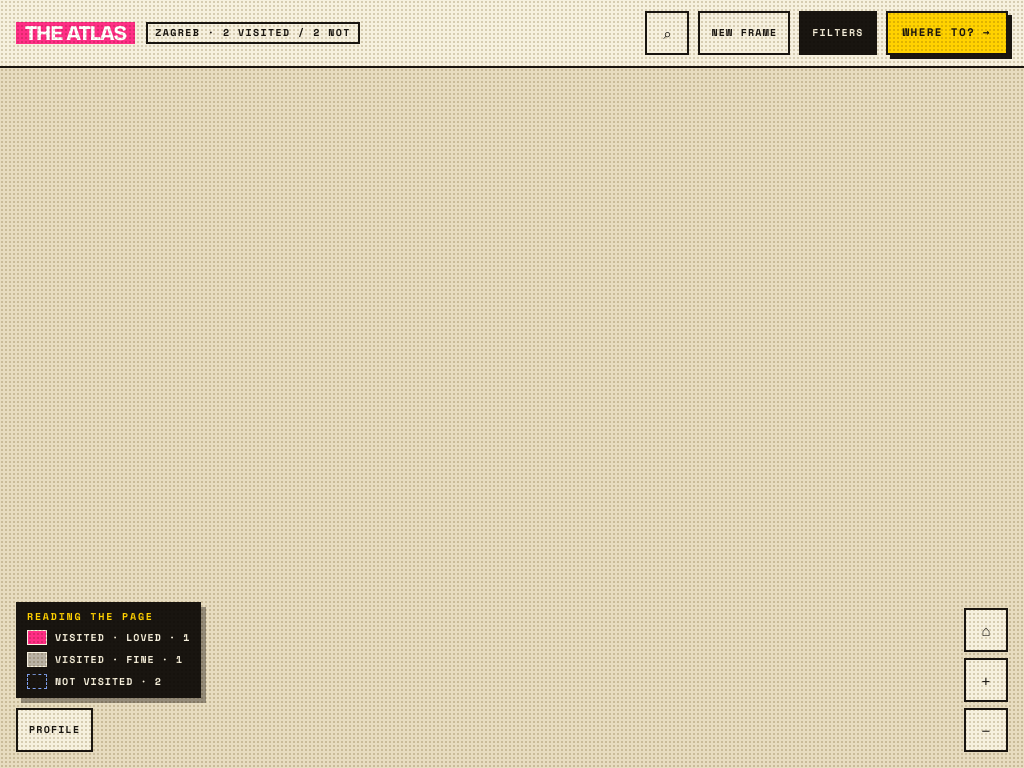
AtlasScreen — search (issue 131) › shows a no-matches row for a query that matches nothing
This screenshot has width=1024, height=768.
Click the button named "Search frames".
click(667, 33)  # box [645,11,689,55]
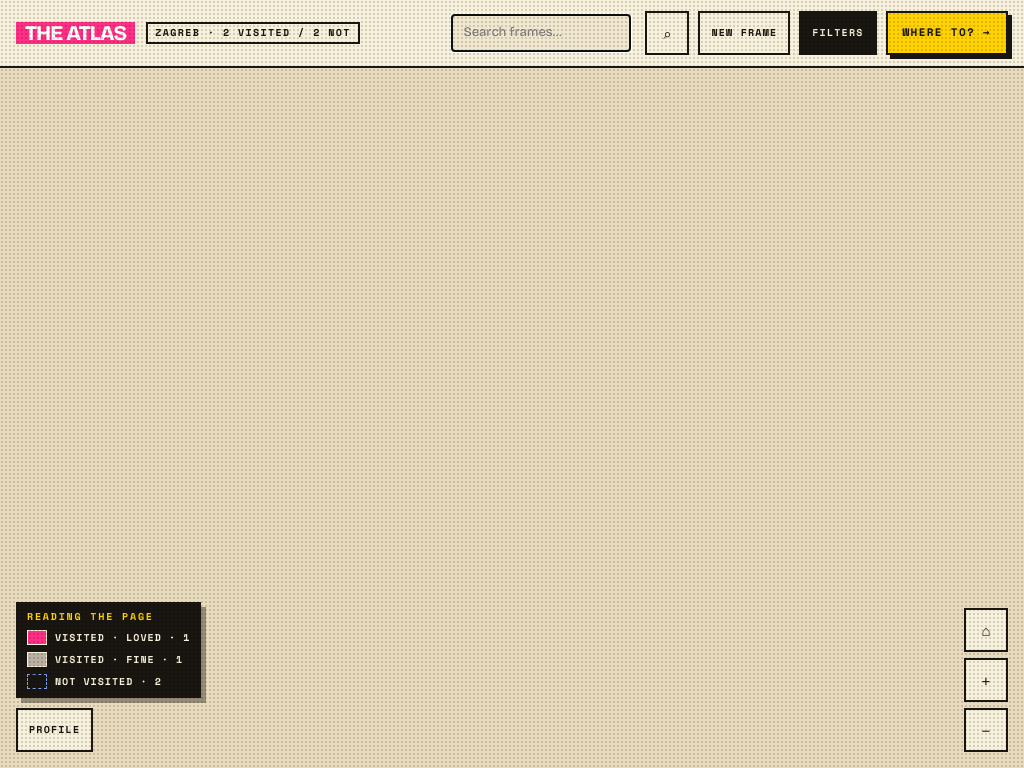
Type "zzz-no-such-place" into the search field with placeholder "Search frames…".
click(541, 33); type("zzz-no-such-place")  # box [451,14,631,52]
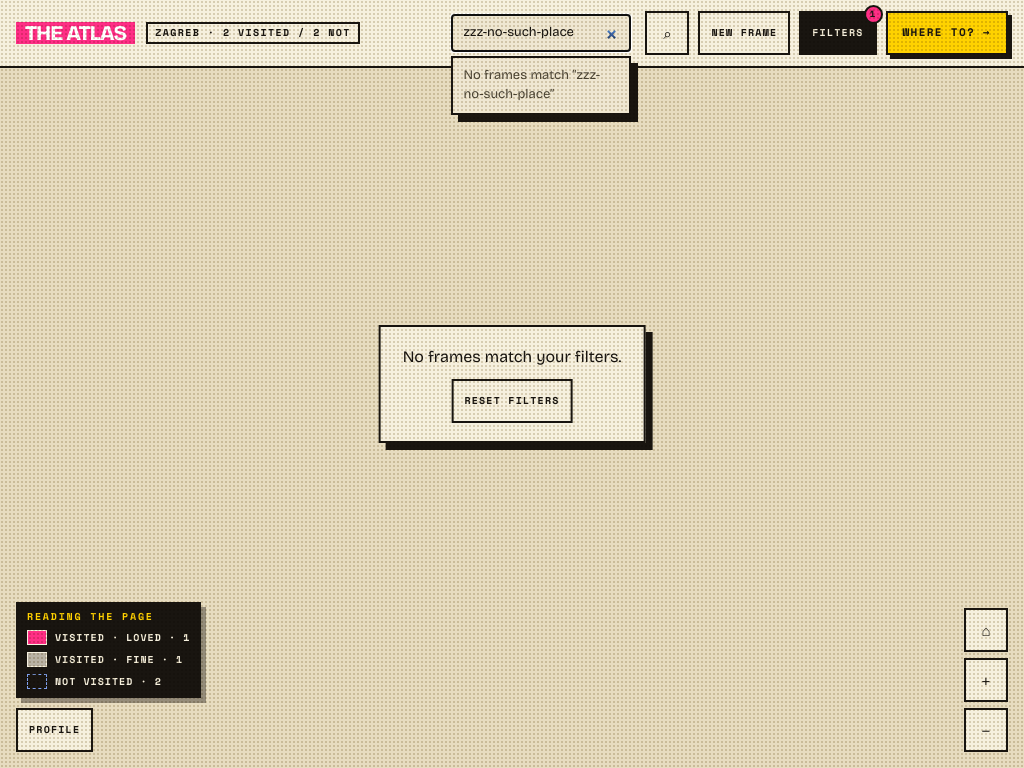
Check: the list named "Matching frames" shows "No frames match", box [463,67,576,83]
